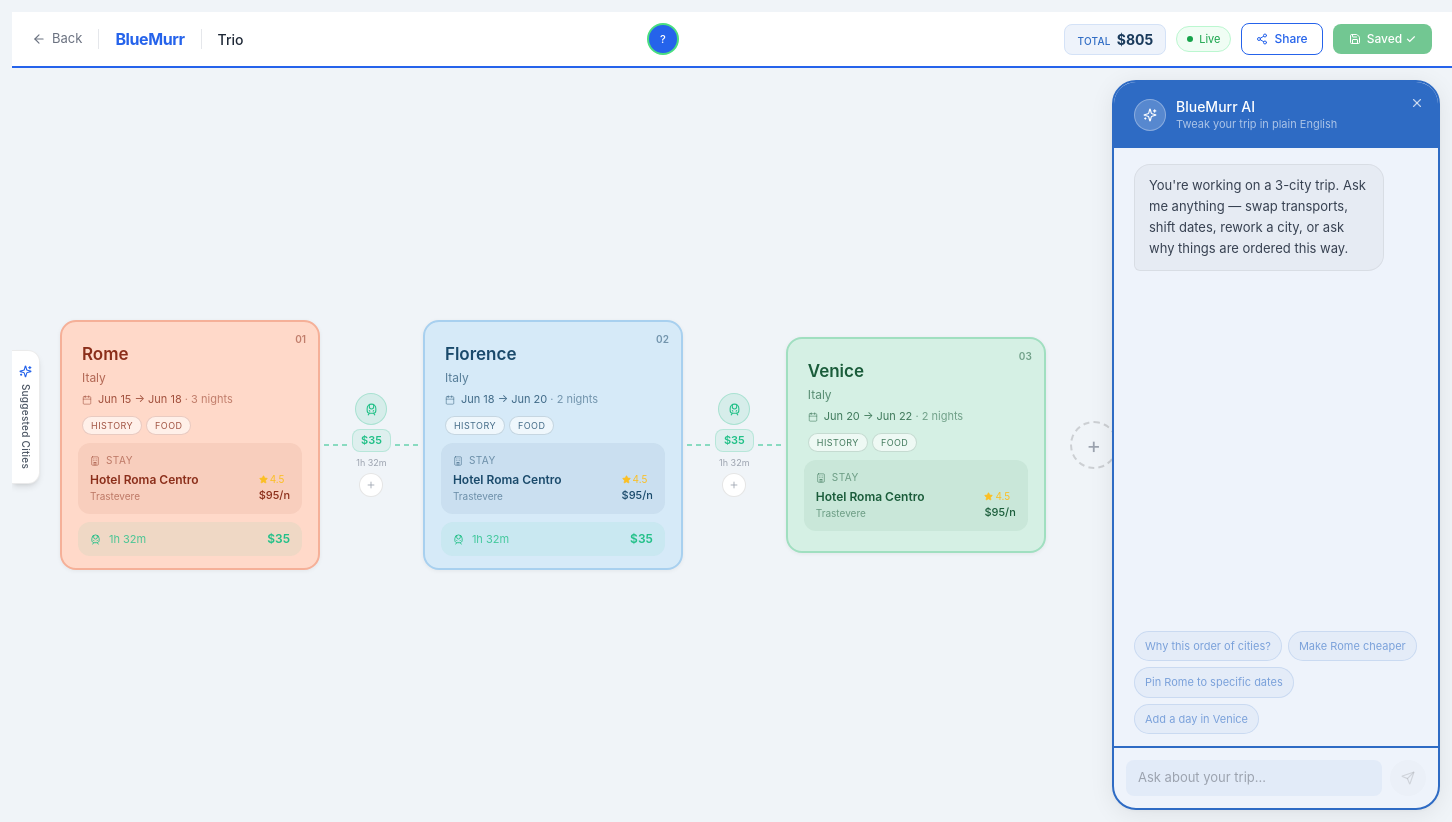
Test case: CanvasPage › stale-leg repair › re-searches the new adjacent pair after removing a middle city
Note: Remove the middle city → Rome/Venice become adjacent with a stale leg
Right-click the text "Florence": (481, 354) [445,344,516,364]
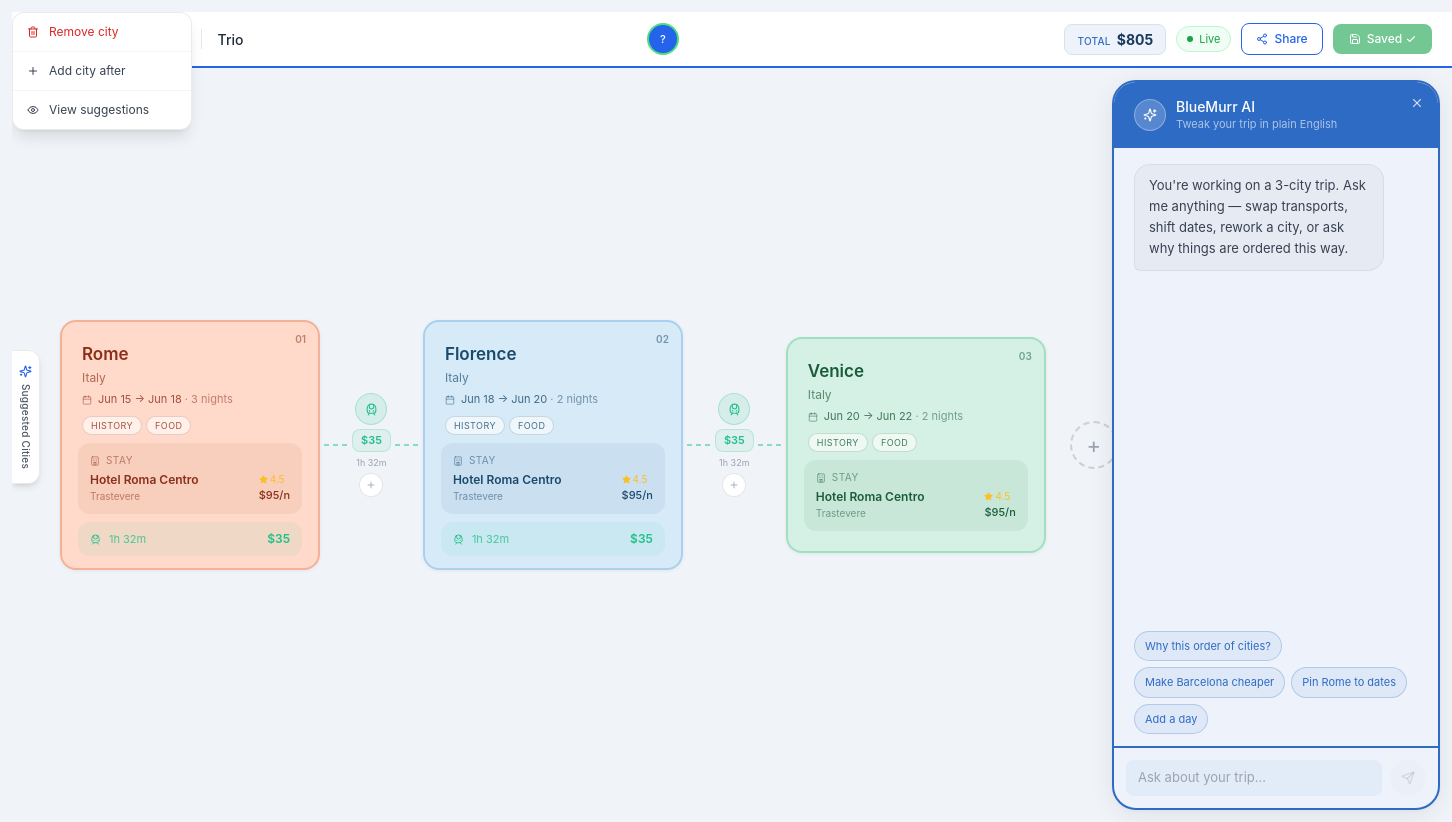
Click the button "Remove city": (102, 32) [13,13,191,51]
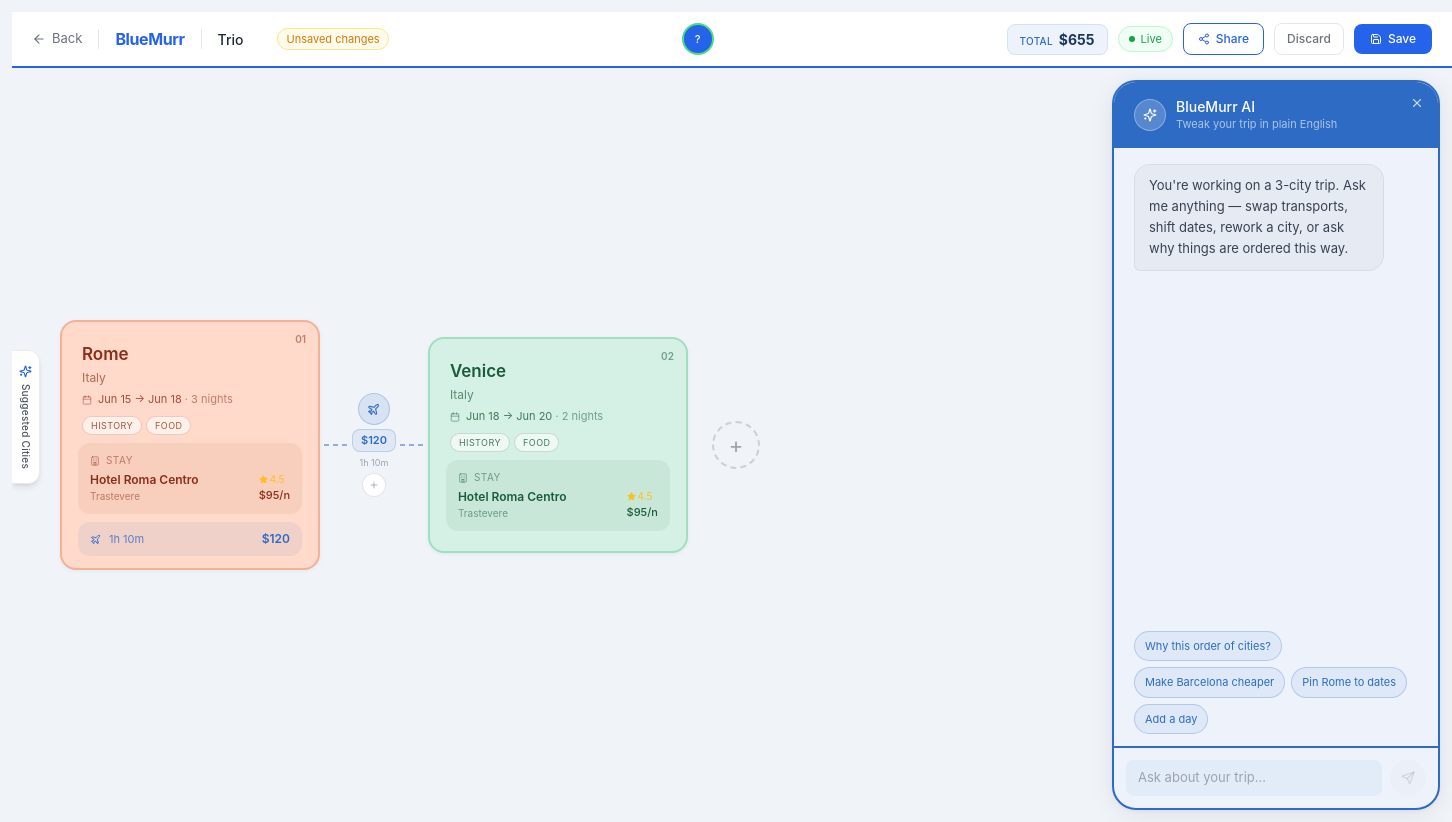
Now the text "$120" below "Jun 15" is shown, box [262,530,290,548]
